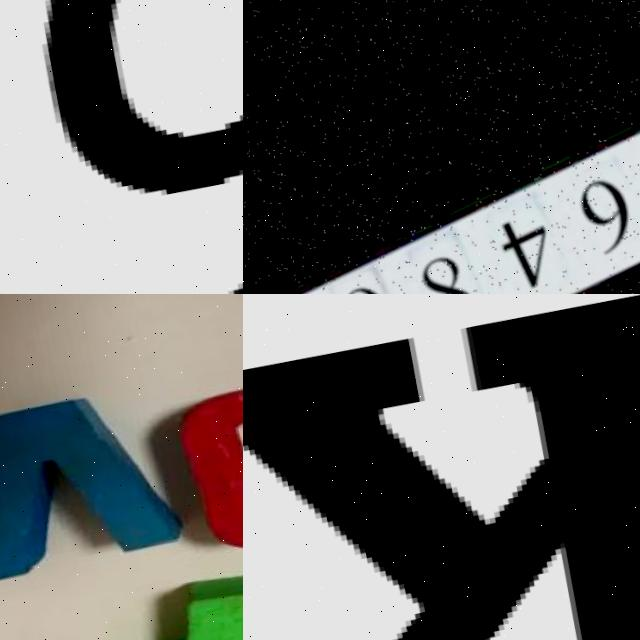4: (482, 189, 583, 294)
6: (0, 0, 243, 294), (564, 153, 640, 269), (327, 262, 423, 294)
8: (409, 234, 500, 294)
F: (19, 573, 243, 640)
K: (243, 294, 640, 640)
O: (162, 355, 243, 563)
V: (0, 378, 190, 590)
